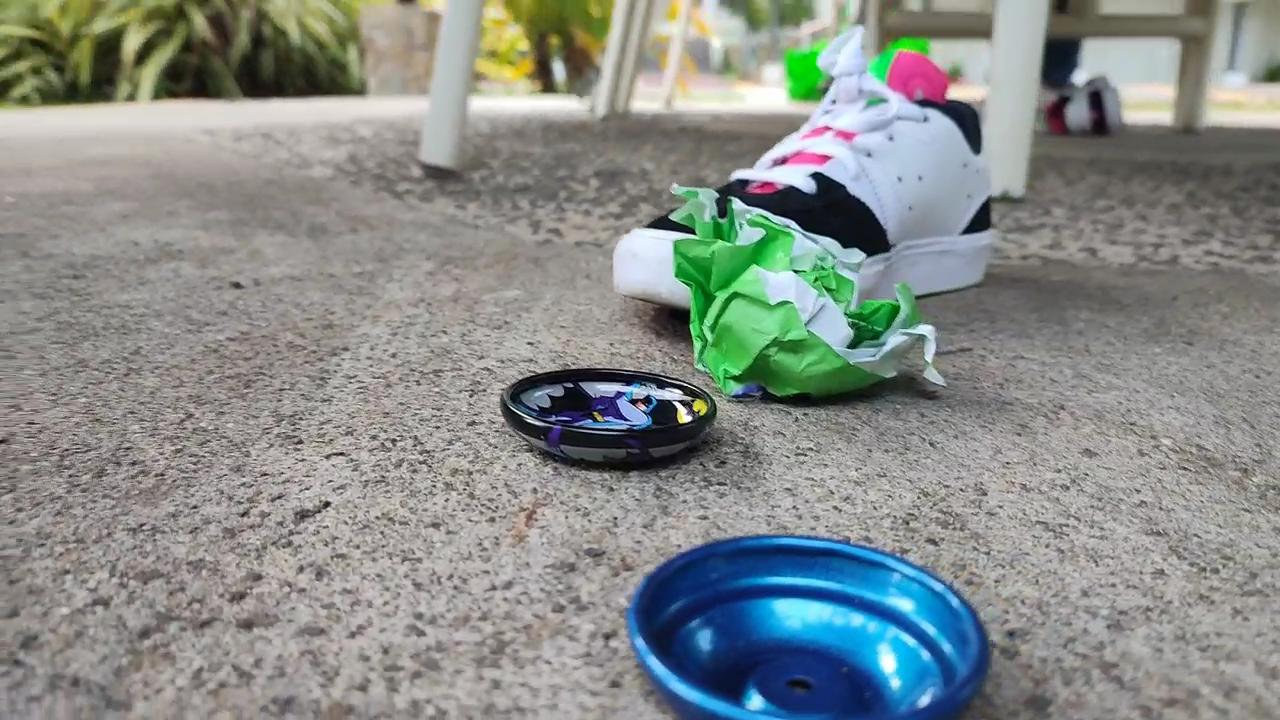Paper: (644, 172, 964, 407)
